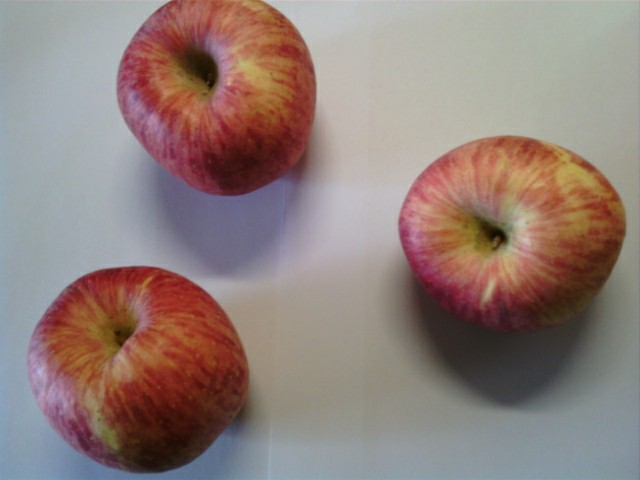normal_apple: (26, 263, 252, 480), (399, 136, 629, 336), (115, 1, 319, 195)
